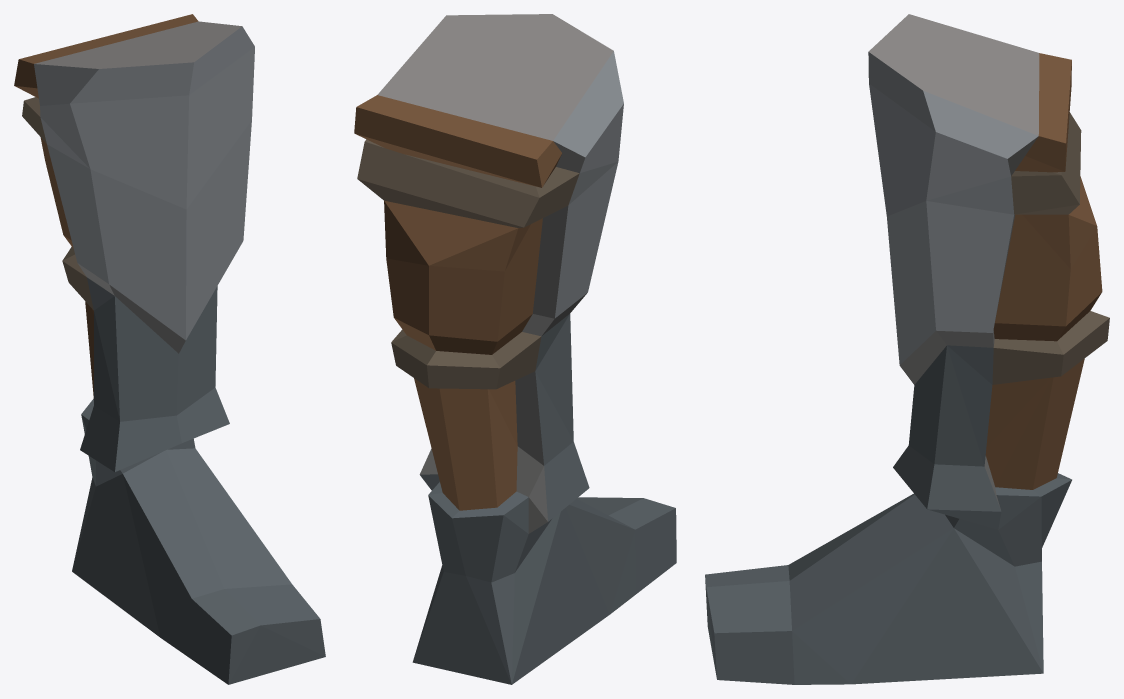
File: Chr_LegLeft_Female_01_Static.fbx
3 renders of one model, left to right at view 1: azimuth 30°, elevation 25°; view 2: azimuth 150°, elevation 25°; view 3: azimuth 270°, elevation 25°, orthographic. The views are drawn at different scales.
Visible parts, largest first — view 1: Chr_LegLeft_Female_01_Static; view 2: Chr_LegLeft_Female_01_Static; view 3: Chr_LegLeft_Female_01_Static.
Boxes of the visible parts, x1,y1,x2,y2 form: Chr_LegLeft_Female_01_Static: (14, 14, 325, 684); Chr_LegLeft_Female_01_Static: (354, 14, 676, 684); Chr_LegLeft_Female_01_Static: (705, 14, 1109, 684).
Bounding box in the file's own units: 0.1432 × 0.4043 × 0.2488.
